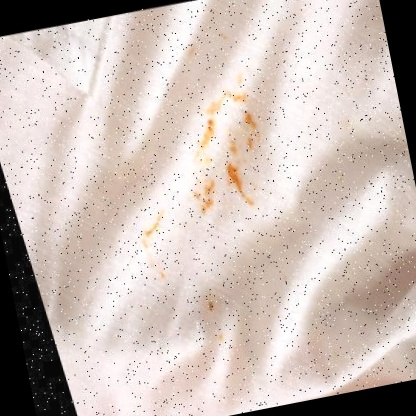kimchi: (164, 73, 300, 240), (123, 206, 189, 293), (209, 324, 239, 353), (201, 291, 227, 317), (180, 38, 200, 58), (216, 27, 229, 41)
